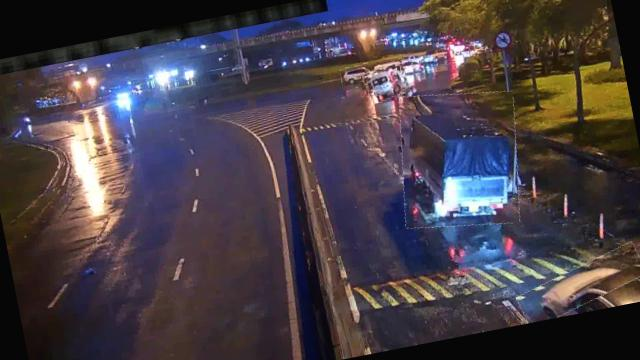Bus: (364, 65, 406, 103)
Car: (513, 247, 640, 322), (340, 63, 373, 85)
Truck: (387, 80, 532, 238)
